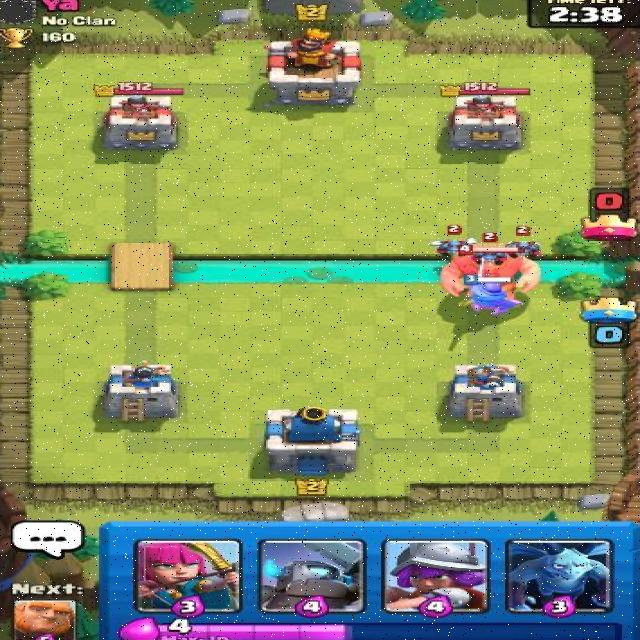Enemy-Giant: (435, 244, 547, 309)
Enemy-Minion: (424, 222, 482, 260), (469, 231, 514, 268), (502, 223, 546, 260)
Player-Knight: (460, 255, 530, 318)
